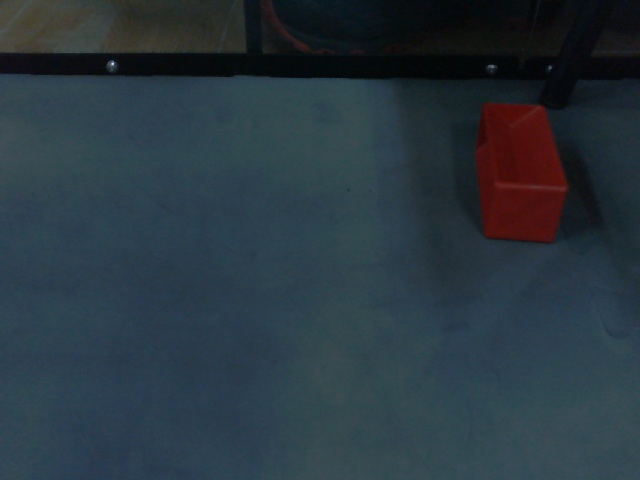RedSample: (472, 102, 571, 247)
